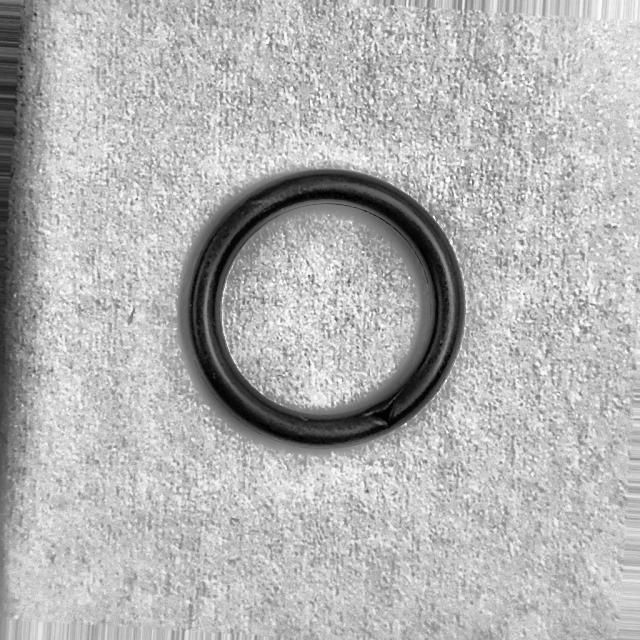切割缺陷: (355, 386, 411, 429)
